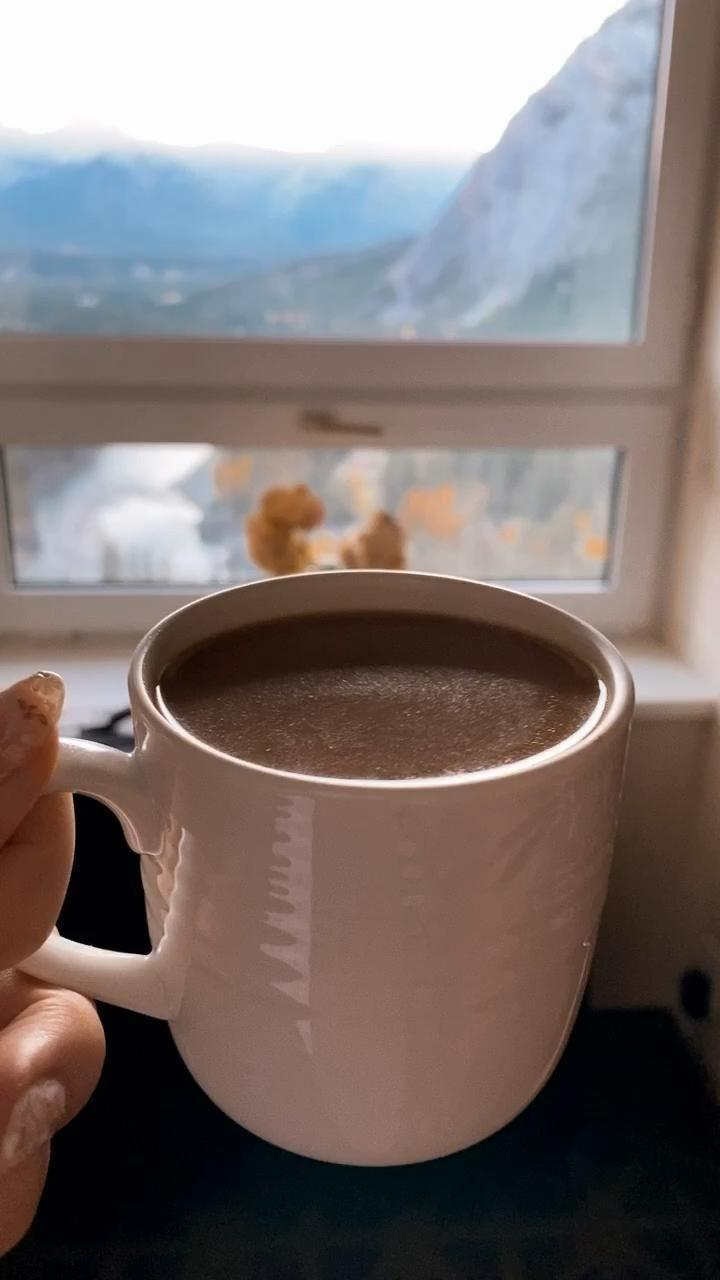cup-handle: (0, 567, 635, 1170)
